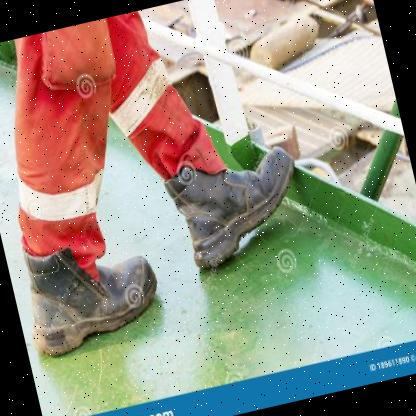bota: (154, 128, 318, 278), (10, 218, 174, 366)
